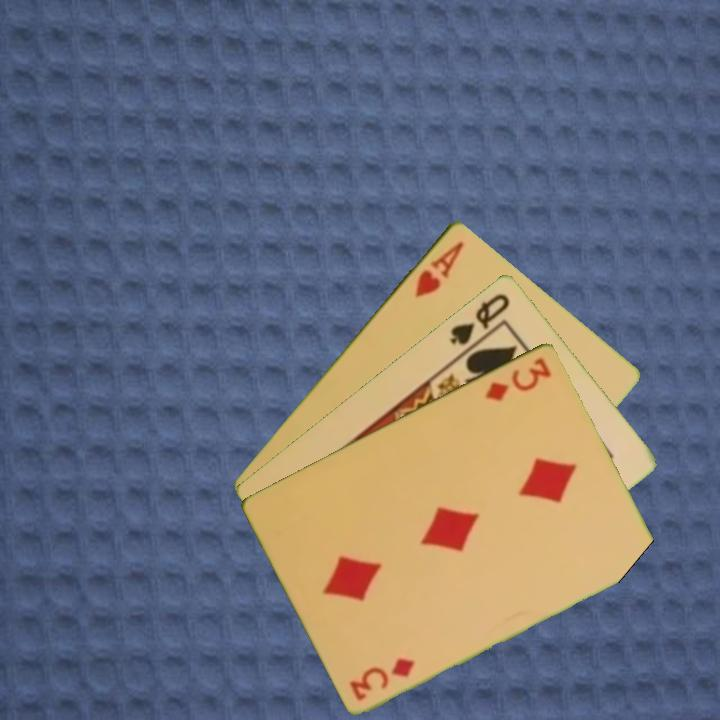3d: (481, 353, 555, 404), (346, 653, 419, 703)
Ah: (411, 237, 467, 301)
Qs: (446, 289, 513, 348)
